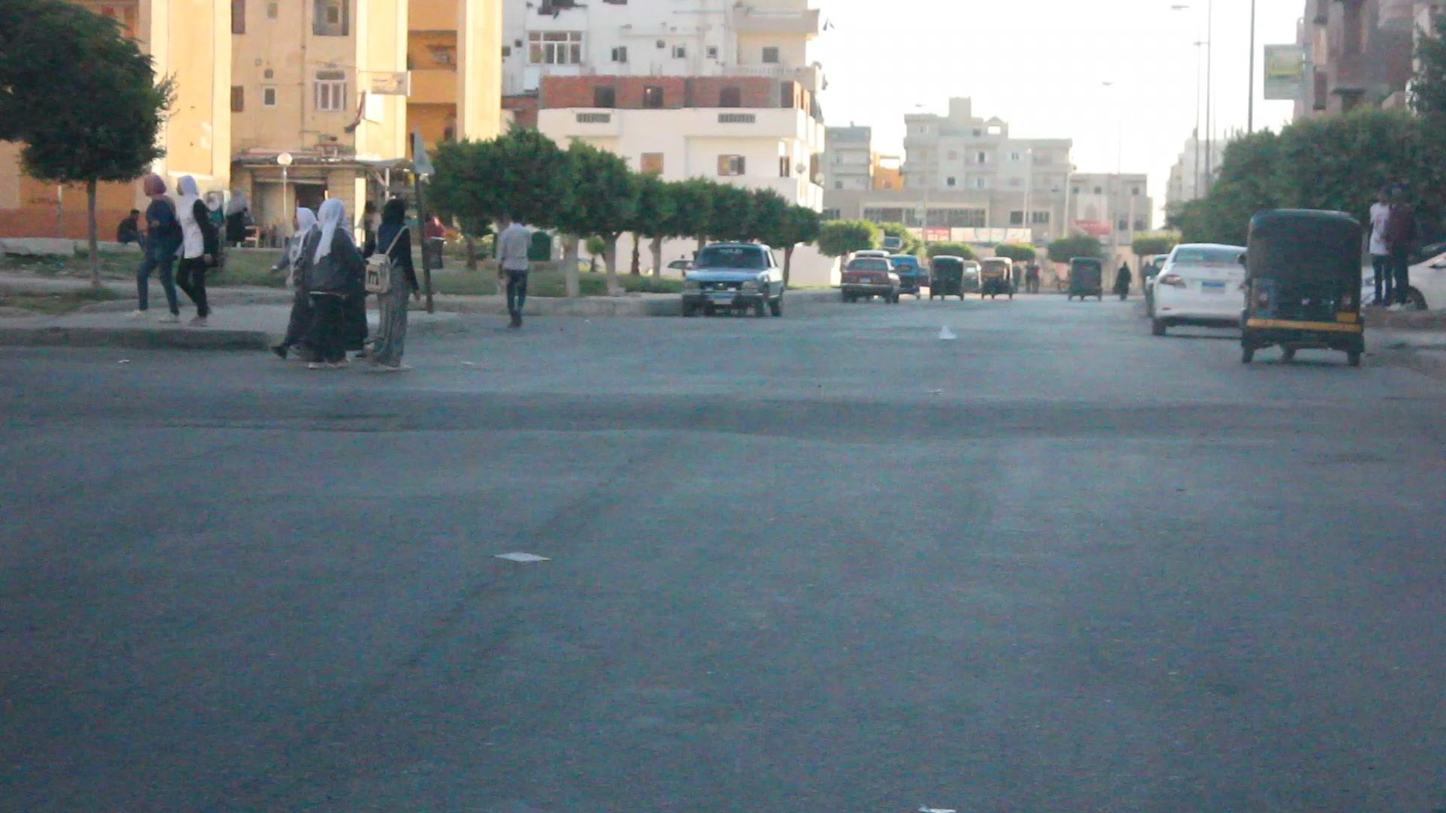Bump: (9, 352, 1446, 454)
